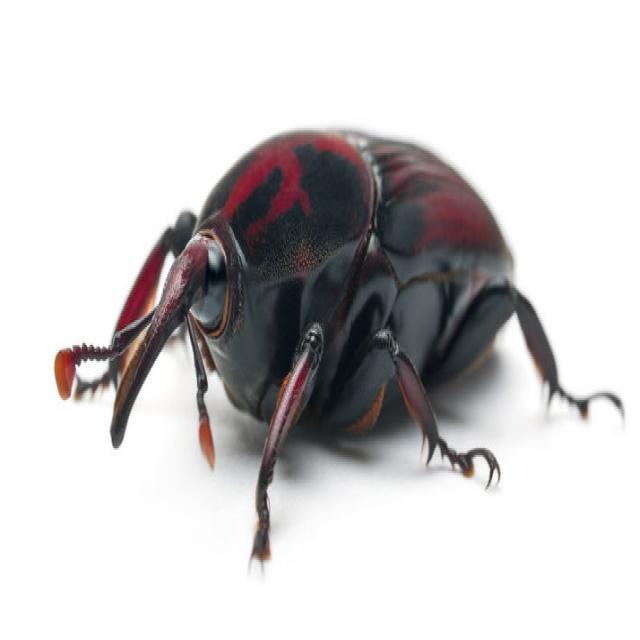Red-palm-weevil: (106, 122, 515, 467)
